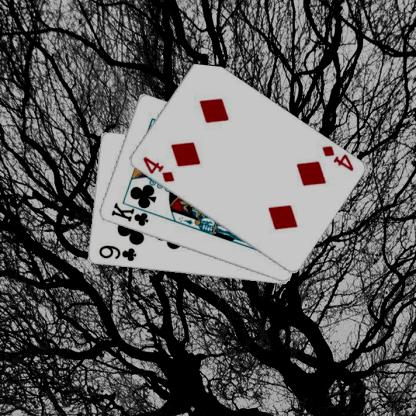4D: (140, 154, 175, 184), (319, 144, 355, 172)
9C: (96, 243, 137, 263)
KC: (108, 199, 156, 227)
